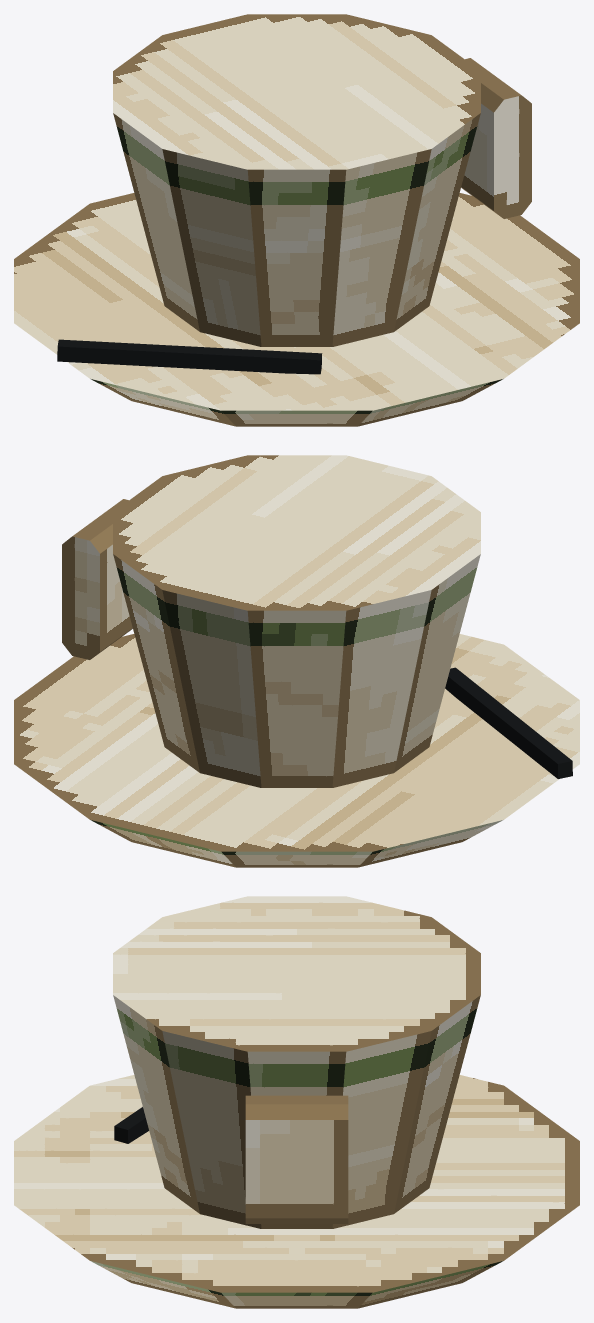
File: teacup.glb
The picture shows the model from 3 angles, top to bottom: view 1: azimuth 30°, elevation 25°; view 2: azimuth 150°, elevation 25°; view 3: azimuth 270°, elevation 25°; orthographic projection.
Parts seen in each view (by area): view 1: cup, saucer, handle, spoon; view 2: cup, saucer, handle, spoon; view 3: cup, saucer, handle, spoon.
Boxes of the visible parts, <box> form: cup: <box>113,14,480,346</box>; saucer: <box>14,193,579,426</box>; handle: <box>461,58,531,218</box>; spoon: <box>57,339,322,374</box>; cup: <box>113,455,480,787</box>; saucer: <box>14,634,579,867</box>; handle: <box>62,499,132,659</box>; spoon: <box>445,667,572,778</box>; cup: <box>113,896,480,1228</box>; saucer: <box>14,1075,579,1308</box>; handle: <box>245,1095,348,1223</box>; spoon: <box>114,1107,148,1143</box>.
Bounding box in the file's own units: 0.3964 × 0.18 × 0.3864.
Materials: 1 (1 with a texture image).
